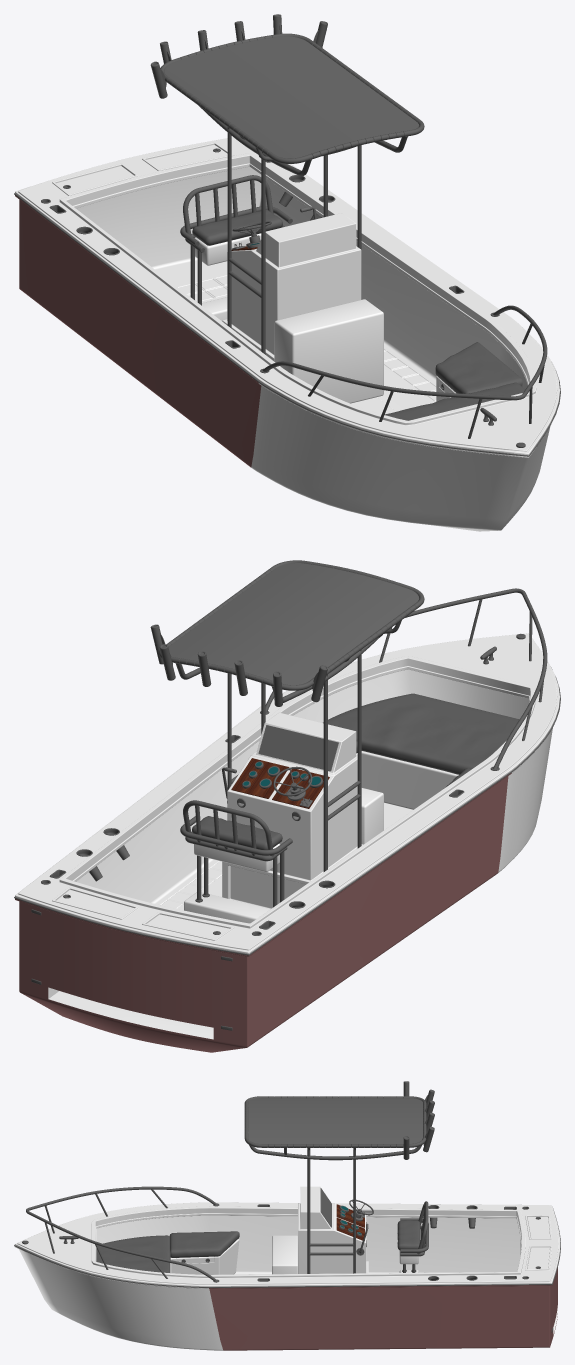
Rendered from youting.glb.
3 renders of one model, top to bottom at view 1: azimuth 30°, elevation 25°; view 2: azimuth 150°, elevation 25°; view 3: azimuth 270°, elevation 25°, orthographic. The views are drawn at different scales.
Visible parts, largest first — view 1: 游艇02; view 2: 游艇02; view 3: 游艇02.
Part boxes in pixels (<box>): 游艇02: <box>14,14,560,531</box>; 游艇02: <box>14,560,560,1052</box>; 游艇02: <box>14,1081,560,1350</box>.
Bounding box in the file's own units: 1.67 × 2.05 × 4.6.
11 materials, 1 textured.
